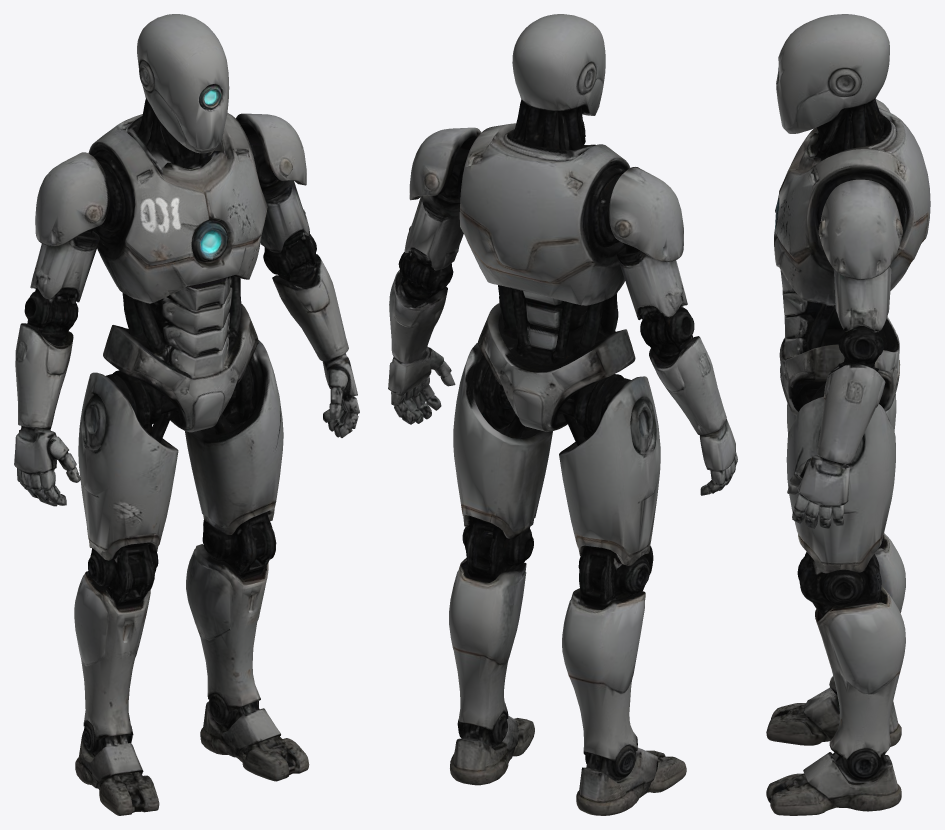
The model's file is Unidad01.glb.
3 renders of one model, left to right at view 1: azimuth 30°, elevation 25°; view 2: azimuth 150°, elevation 25°; view 3: azimuth 270°, elevation 25°, orthographic.
Parts seen in each view (by area): view 1: node_0; view 2: node_0; view 3: node_0.
Part boxes in pixels (bbox=[...]): node_0: bbox=[14, 14, 359, 815]; node_0: bbox=[388, 14, 737, 815]; node_0: bbox=[766, 14, 930, 815].
Bounding box in the file's own units: 0.8586 × 1.85 × 0.3664.
1 material, 1 textured.
